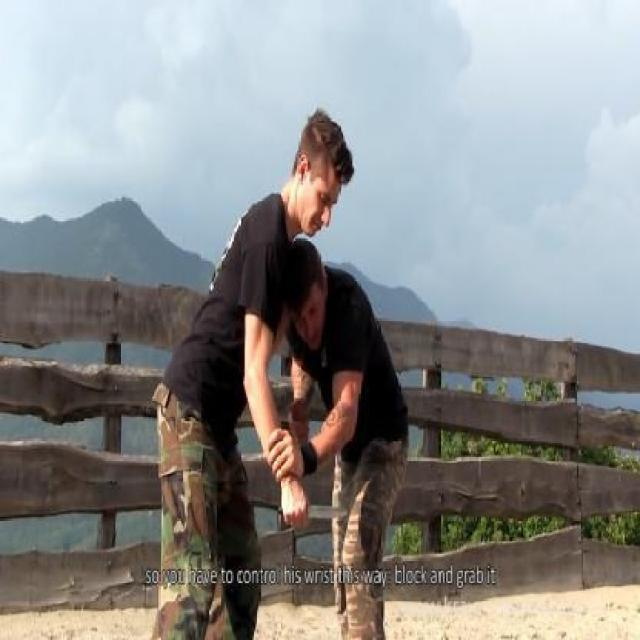-: (276, 491, 353, 532)
